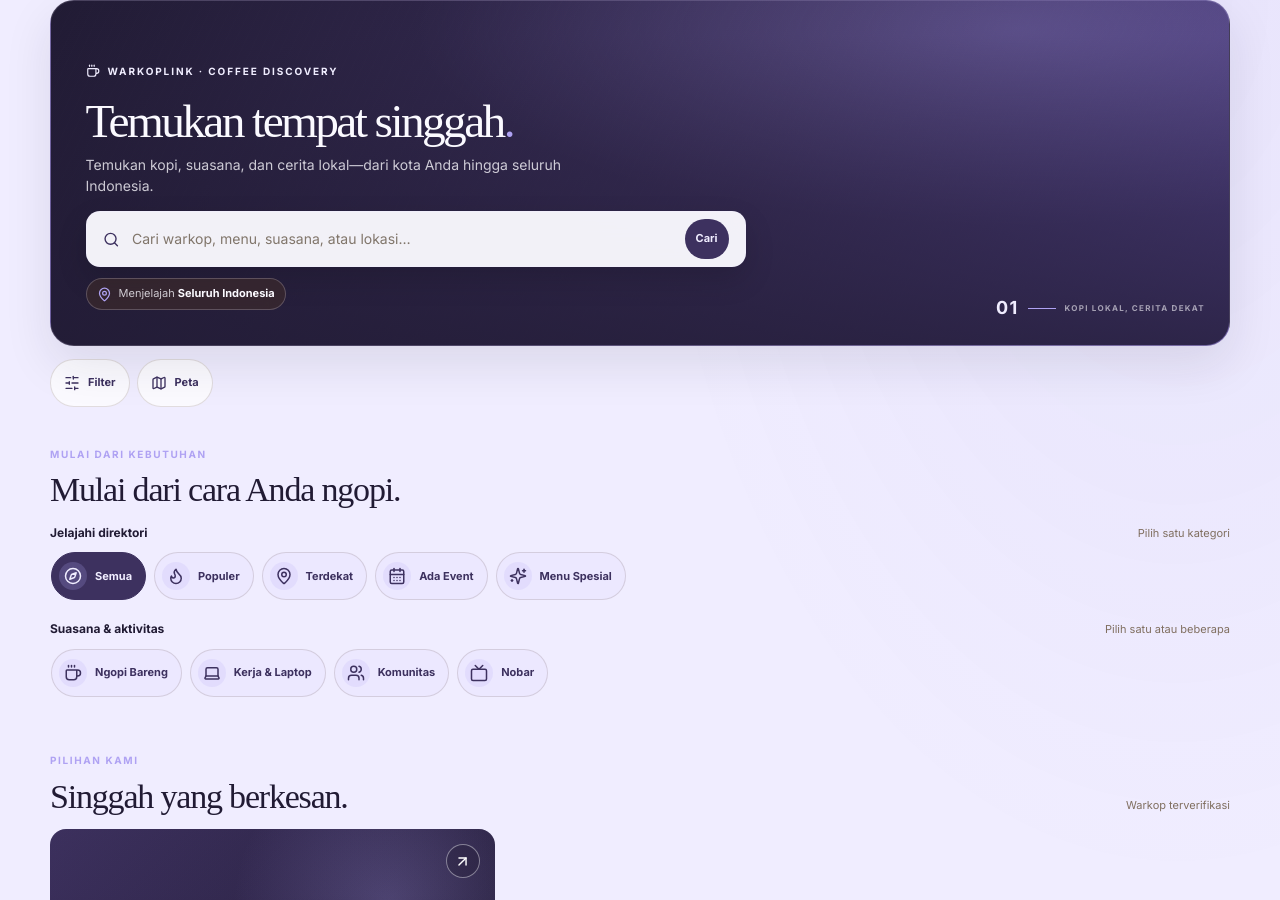
Test: kartu direktori warkop › menampilkan acara yang masih berlangsung pada kategori event
Click the button "Ada Event". click: click(431, 576)
box: [375,552,488,600]
(page scrolled)
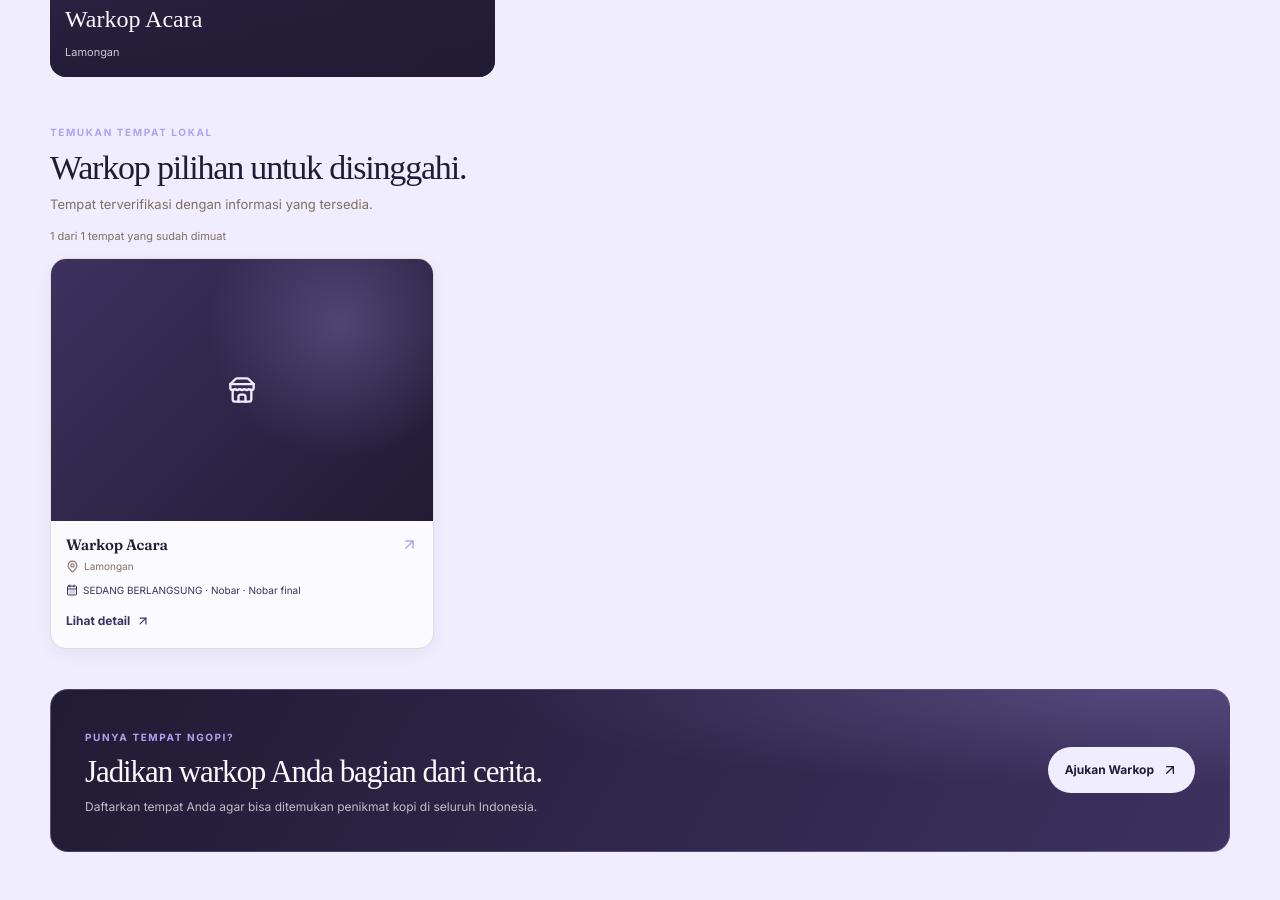
Check: the text "SEDANG BERLANGSUNG · Nobar · Nobar final" is shown, box [66,584,301,596]
